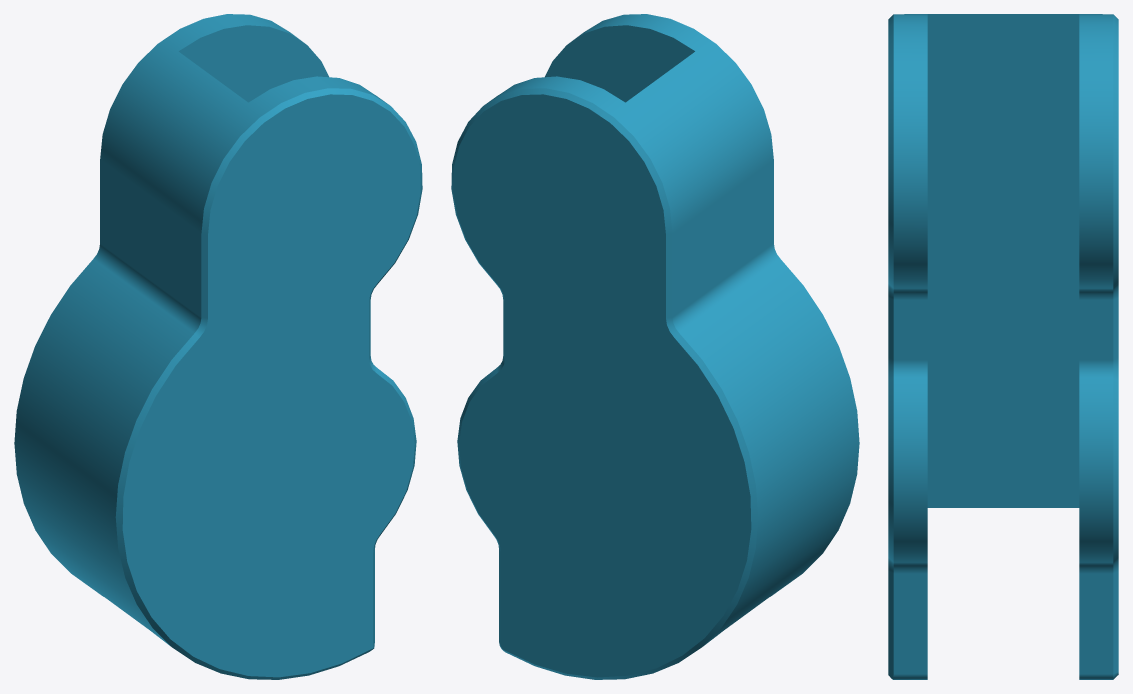
The model's file is elbow_middle_link.dae.
3 renders of one model, left to right at view 1: azimuth 30°, elevation 25°; view 2: azimuth 150°, elevation 25°; view 3: azimuth 270°, elevation 25°, orthographic. The views are drawn at different scales.
Parts seen in each view (by area): view 1: FBXASC227FBXASC130FBXASC189FBXASC227FBXASC131FBXASC170FBXASC; view 2: FBXASC227FBXASC130FBXASC189FBXASC227FBXASC131FBXASC170FBXASC; view 3: FBXASC227FBXASC130FBXASC189FBXASC227FBXASC131FBXASC170FBXASC.
Boxes of the visible parts, x1,y1,x2,y2 form: FBXASC227FBXASC130FBXASC189FBXASC227FBXASC131FBXASC170FBXASC: [14, 14, 422, 679]; FBXASC227FBXASC130FBXASC189FBXASC227FBXASC131FBXASC170FBXASC: [451, 14, 859, 679]; FBXASC227FBXASC130FBXASC189FBXASC227FBXASC131FBXASC170FBXASC: [888, 14, 1118, 679].
Bounding box in the file's own units: 0.0734 × 0.044 × 0.1335.
